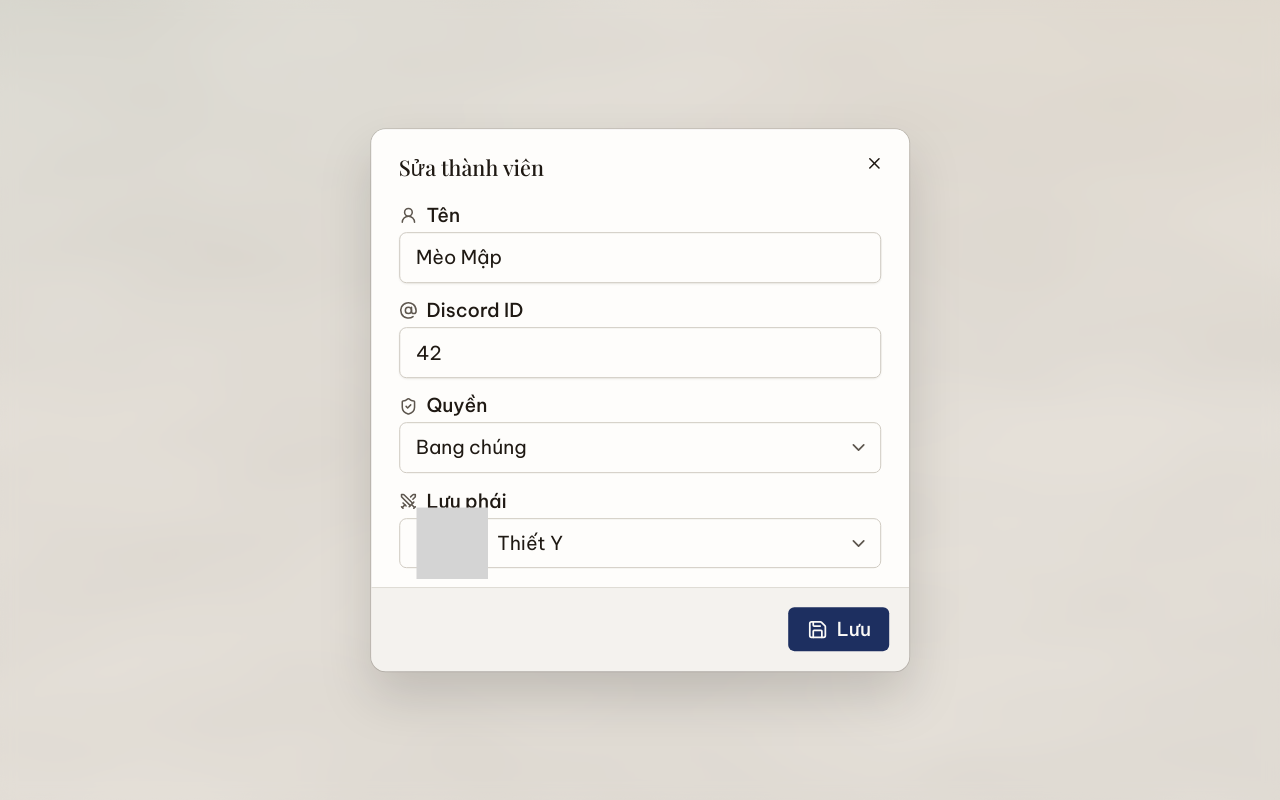
Scenario: MemberFormDialog - toast › lưu lỗi thì không toast thành công
Click the button "Lưu". click: (839, 629)
box: [787,606,890,652]
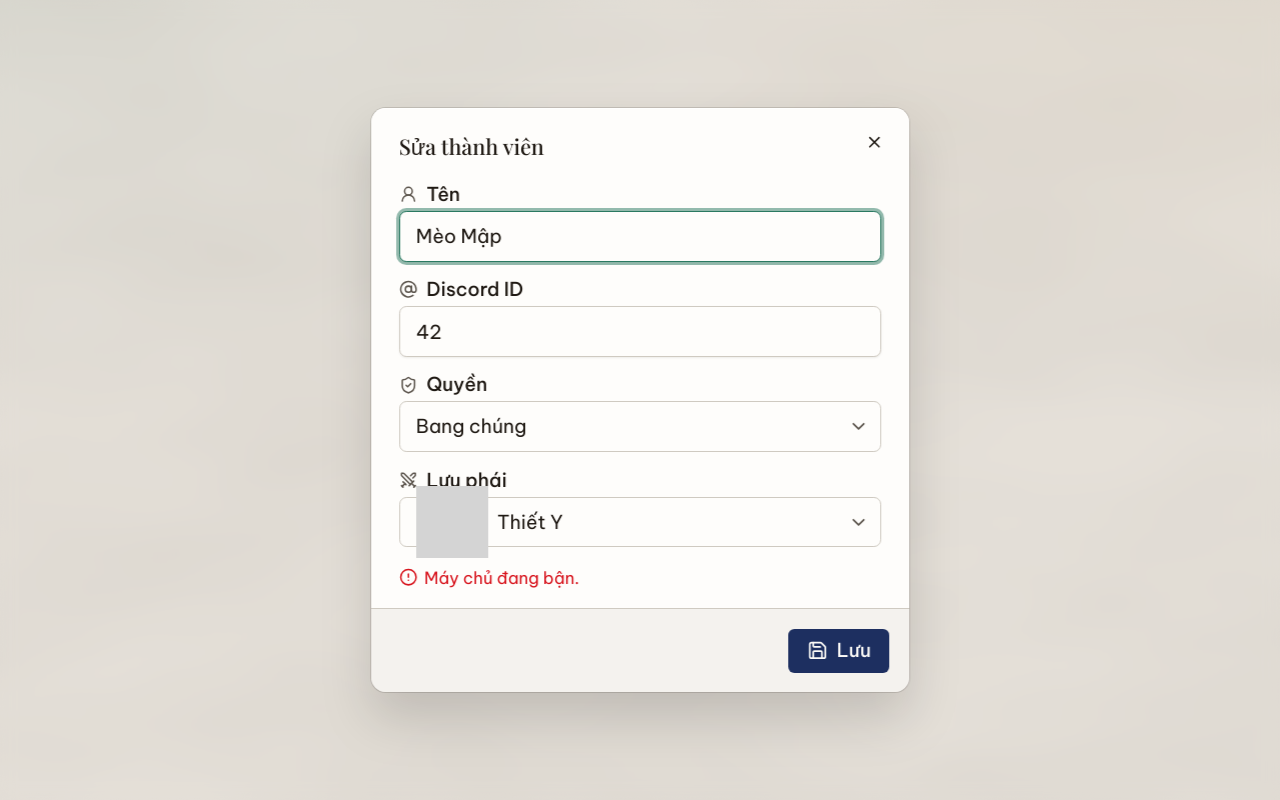
Now the text "Máy chủ đang bận." is shown, box [399,567,579,588]
